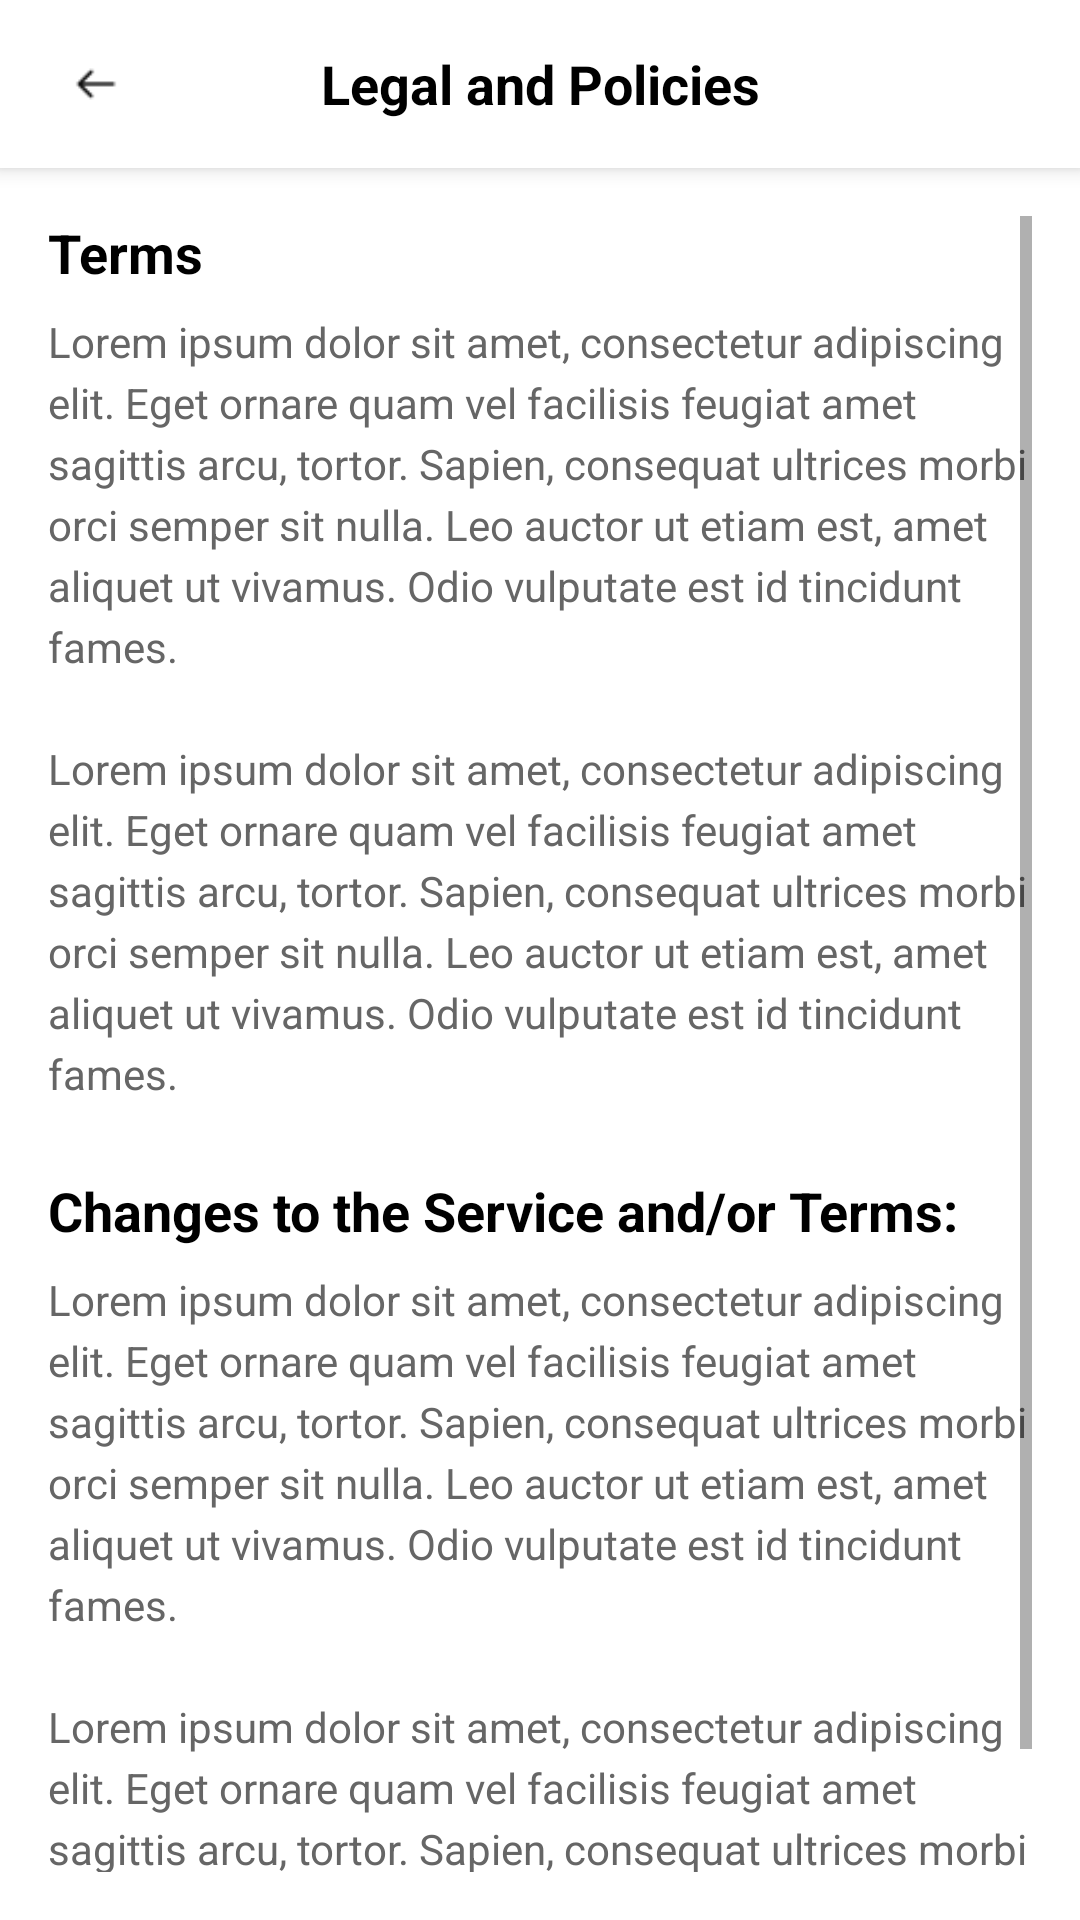

Locate icon controls on the screen. Image size 1080px x 1920px, boxes as [x1=x1, y1=y1, x2=x2, y2=y2].
back: [x1=76, y1=69, x2=116, y2=99]
